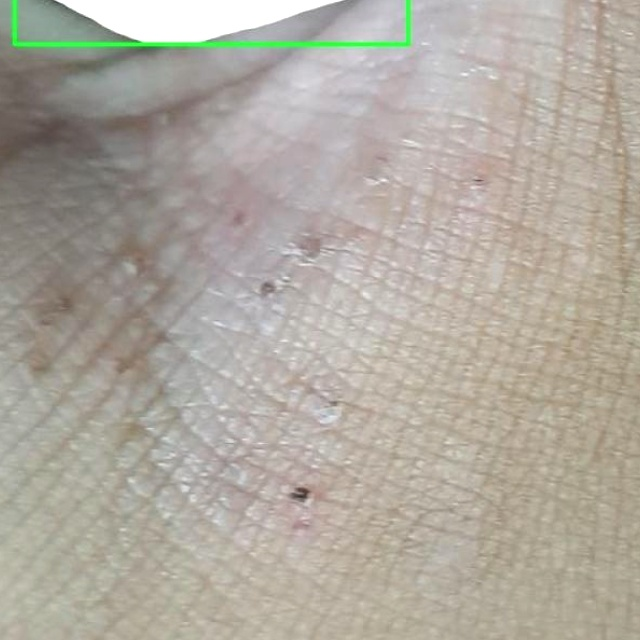Scabies: (14, 0, 408, 44)
